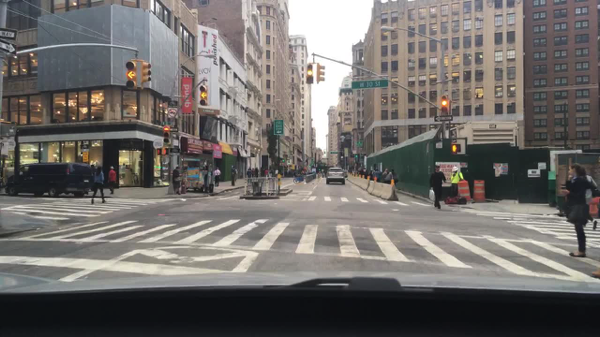bike: (293, 176, 306, 184)
car: (5, 162, 94, 199), (326, 167, 345, 185), (344, 169, 348, 179)
person: (563, 162, 588, 257), (579, 166, 598, 230), (428, 164, 447, 209), (91, 165, 105, 204), (449, 165, 463, 198), (173, 165, 181, 195), (108, 167, 117, 193), (213, 167, 221, 188), (231, 165, 238, 182), (390, 169, 397, 184), (381, 168, 388, 183), (231, 167, 236, 186), (373, 169, 379, 181), (368, 169, 373, 180), (274, 168, 279, 177), (255, 167, 259, 178), (255, 166, 259, 177), (260, 166, 264, 177), (251, 168, 255, 178), (264, 169, 268, 177), (362, 168, 366, 176), (246, 169, 249, 179), (369, 170, 372, 180), (269, 167, 272, 177), (249, 169, 252, 178), (365, 169, 368, 178), (271, 168, 274, 177), (293, 170, 296, 178)
traffic light: (125, 60, 138, 89), (440, 95, 450, 117), (142, 63, 151, 84), (198, 85, 207, 106), (306, 64, 314, 85), (162, 126, 170, 144), (317, 64, 324, 83), (450, 143, 461, 152), (162, 149, 167, 156), (156, 149, 160, 154), (354, 154, 358, 158), (281, 158, 284, 162)
traffic sign: (352, 80, 388, 89), (0, 29, 18, 40), (0, 42, 16, 54), (273, 119, 283, 135), (434, 116, 452, 121), (168, 109, 177, 117), (168, 101, 178, 108), (169, 127, 177, 132), (356, 141, 363, 146), (330, 151, 337, 154)
